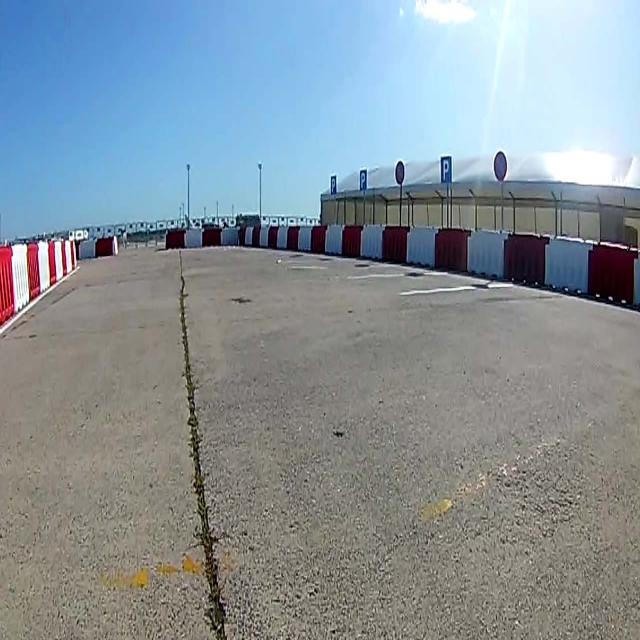park: (440, 156, 452, 184), (360, 169, 367, 191), (331, 175, 336, 194)
parkyasak: (494, 150, 506, 182), (394, 160, 404, 184)
